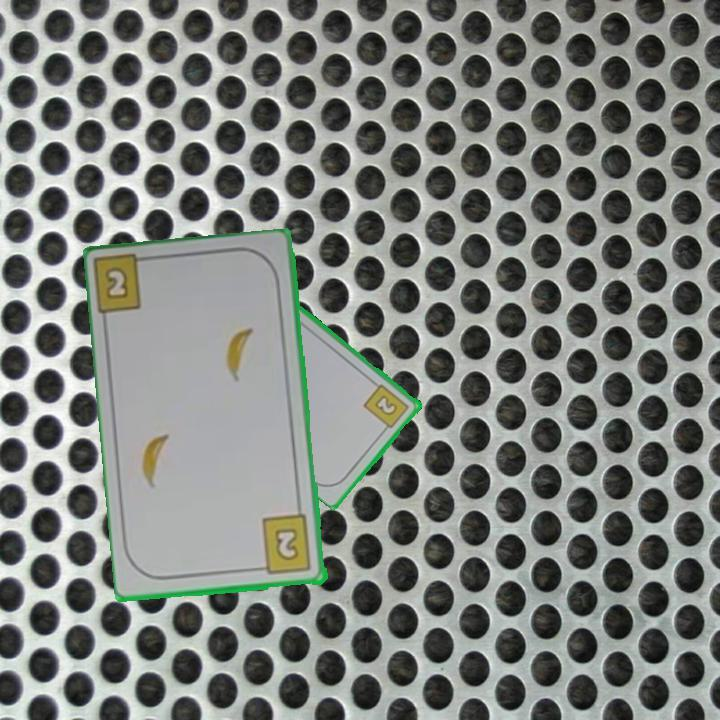2b: (254, 512, 315, 577), (360, 380, 412, 435), (102, 263, 132, 303)
